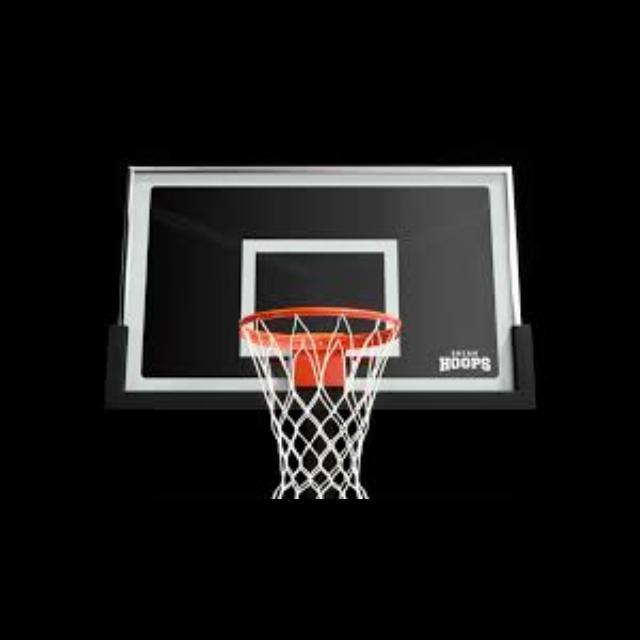rim: (240, 307, 400, 499)
